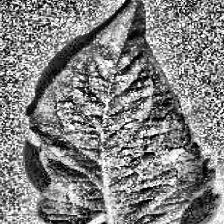spider mites: (30, 0, 222, 224)
